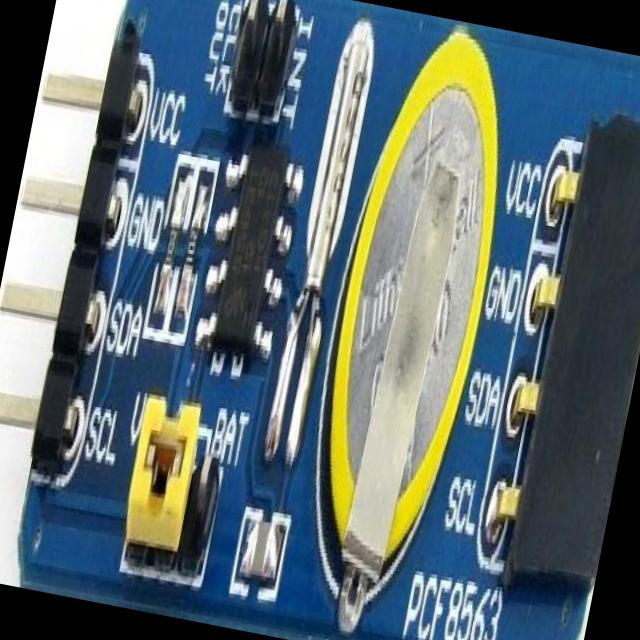IC: (202, 140, 302, 362)
capacitor: (240, 515, 282, 590)
connector: (473, 109, 640, 607), (0, 28, 160, 484), (110, 384, 238, 579), (224, 0, 304, 125)
resistor: (148, 190, 188, 328), (173, 200, 210, 314)
